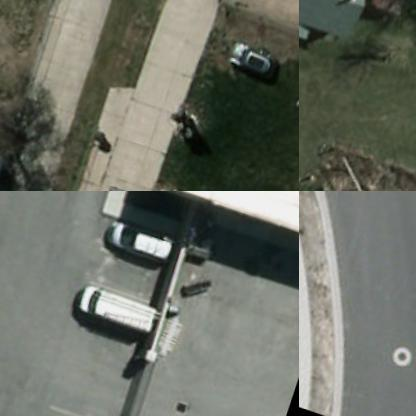car: (102, 209, 184, 262), (218, 35, 280, 80)
van: (76, 279, 164, 332)
